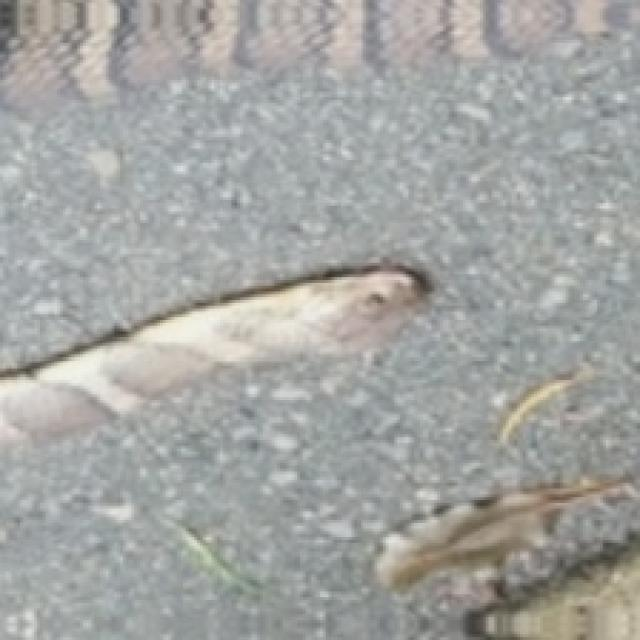king cobra: (0, 269, 426, 449), (0, 0, 637, 106)
